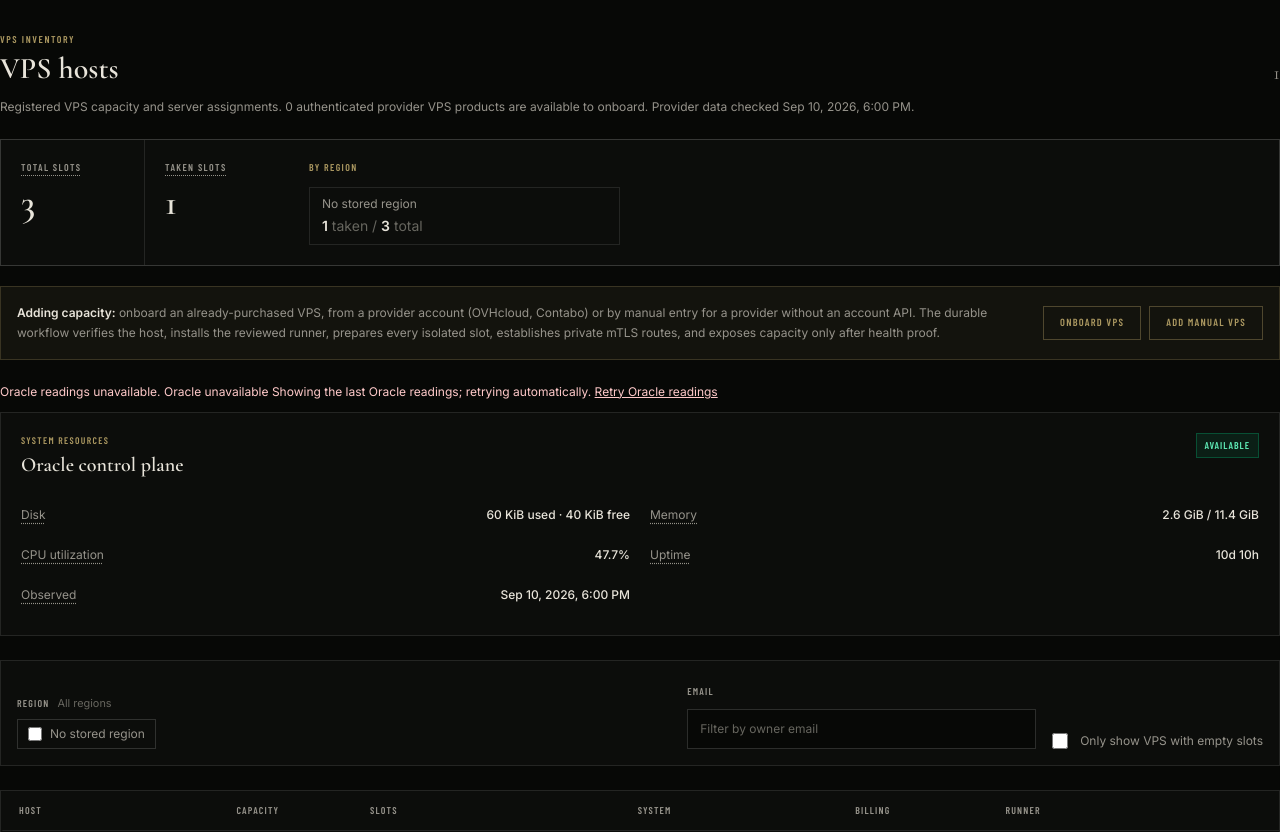
it: retains and labels failed Oracle readings, retries only Oracle, and clears a missing observation
Click the button "Retry Oracle readings" at (656, 392), box [595,384,718,400]
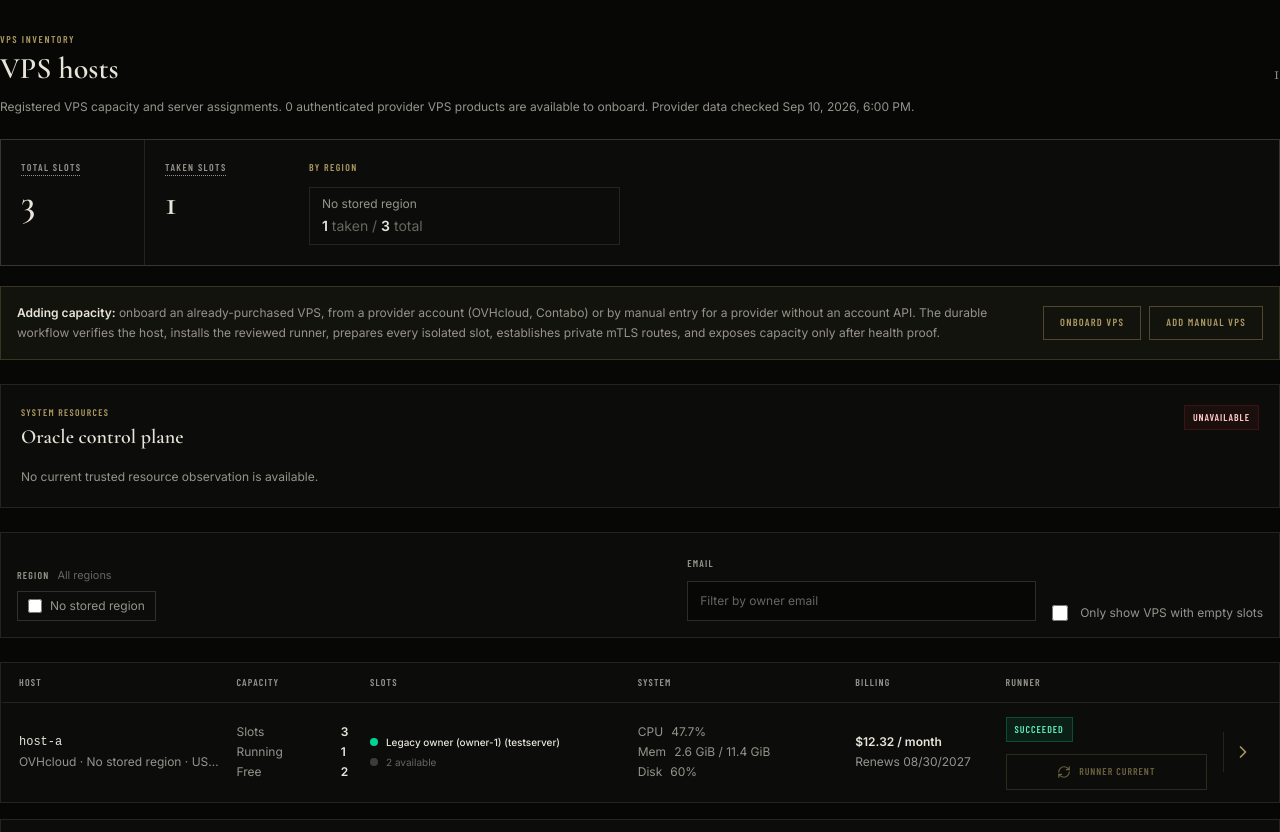
Expected: the element that starts with "System resources" shows "No current trusted resource observation", [21,469,318,484]
Expected: the text "Showing the last Oracle readings" is gone
